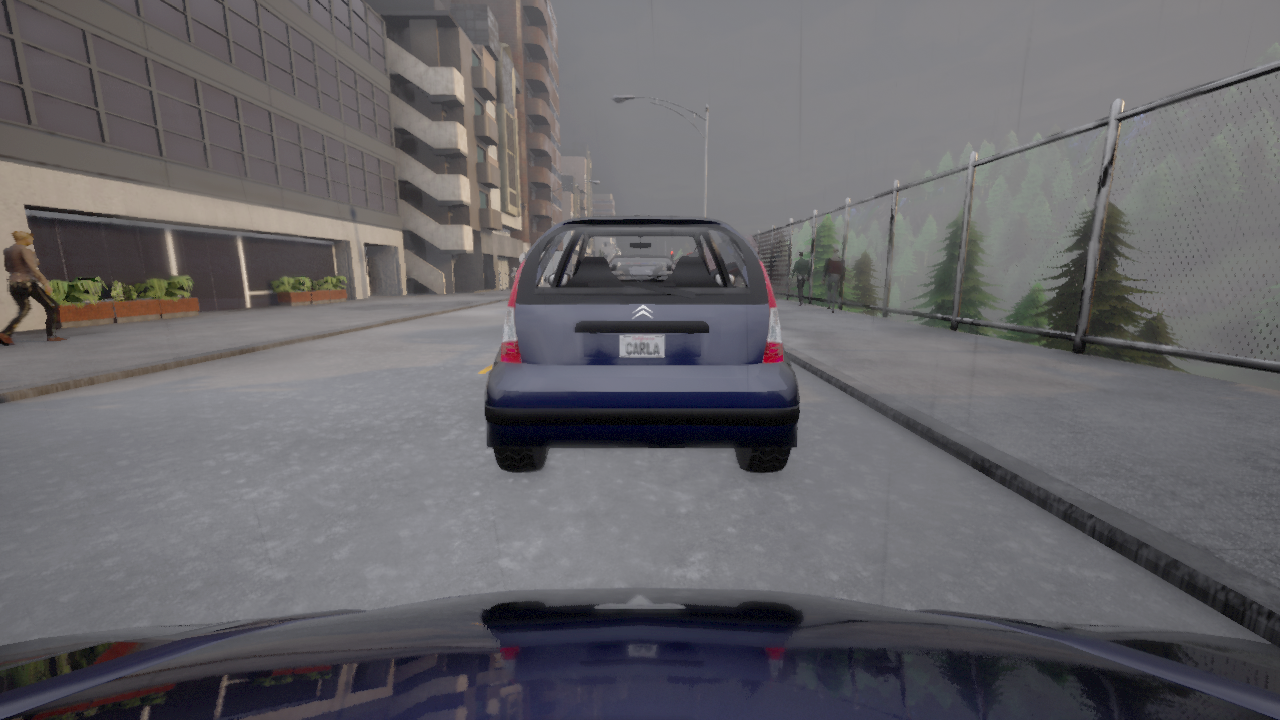cyclist: (0, 588, 1279, 719), (484, 216, 799, 472), (743, 234, 761, 260)
pedestrian: (0, 229, 66, 345), (822, 247, 845, 313), (790, 251, 809, 306), (508, 263, 517, 285)
